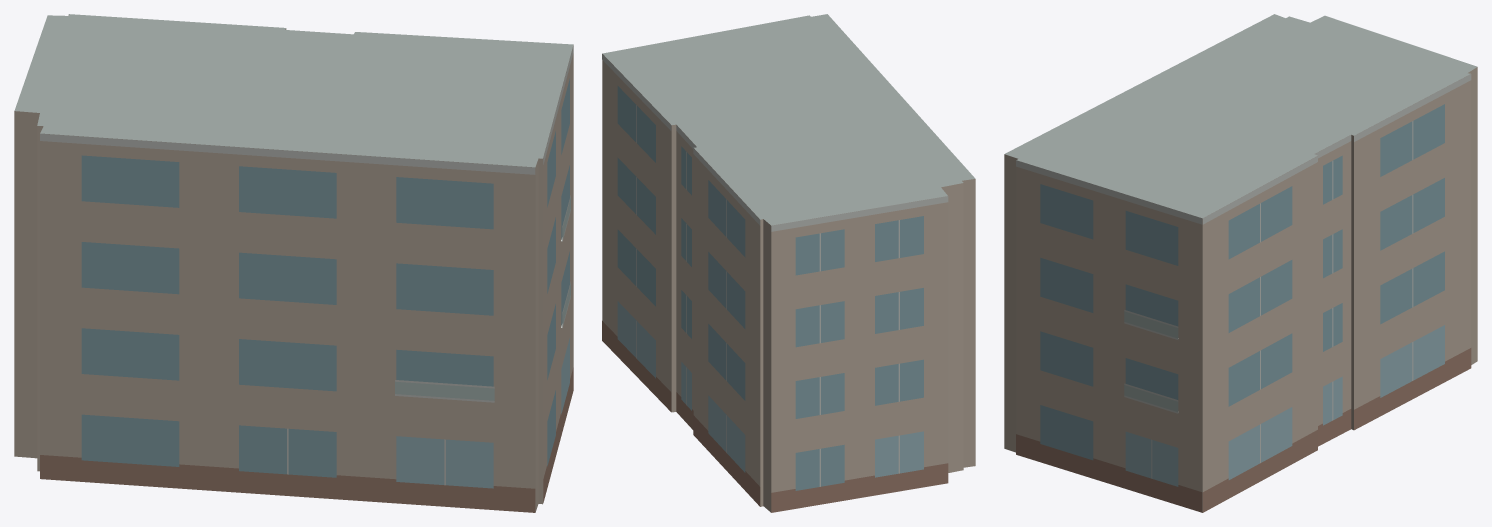
Rendered from survey-upis-32810827.glb.
The picture shows the model from 3 angles, left to right: view 1: azimuth 30°, elevation 25°; view 2: azimuth 150°, elevation 25°; view 3: azimuth 270°, elevation 25°; orthographic projection. The views are drawn at different scales.
Visible parts, largest first — view 1: survey-upis-32810827.tmp; view 2: survey-upis-32810827.tmp; view 3: survey-upis-32810827.tmp.
Boxes of the visible parts, bbox=[...] form: survey-upis-32810827.tmp: bbox=[14, 14, 573, 512]; survey-upis-32810827.tmp: bbox=[602, 14, 975, 512]; survey-upis-32810827.tmp: bbox=[1004, 14, 1477, 512].
Size of the model in its own units: 16.67 by 11.2 by 16.33.
